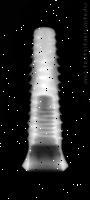Cowellmedi: (10, 24, 69, 175)
